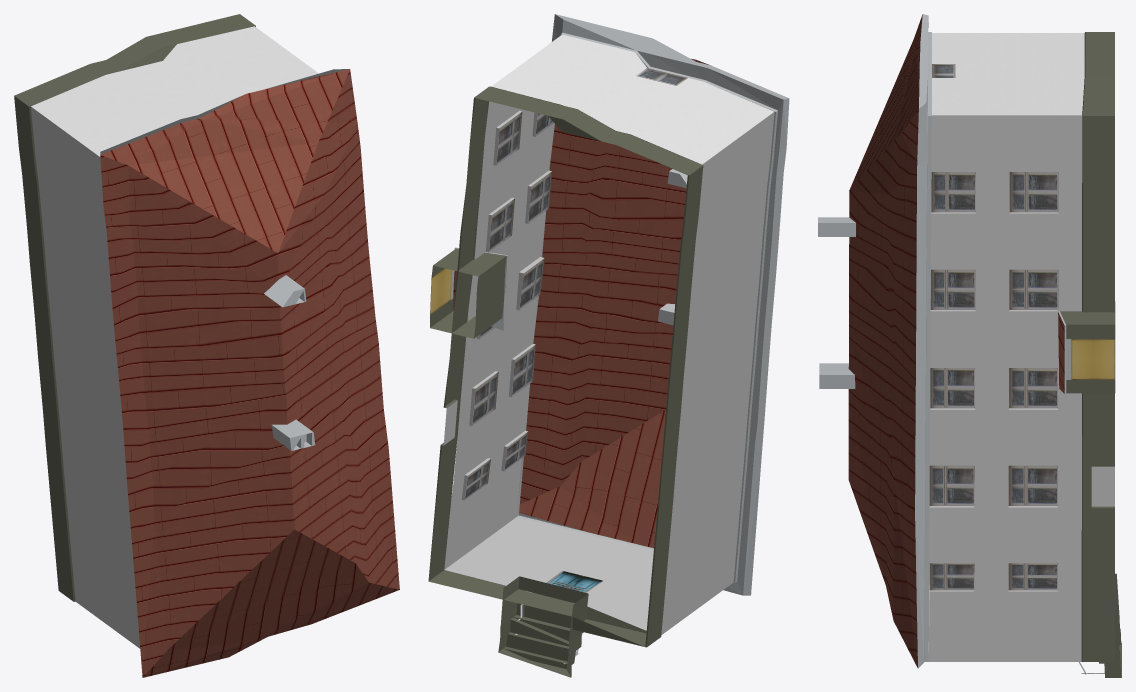
The model's file is Aia_15-origo.obj.
The picture shows the model from 3 angles, left to right: view 1: azimuth 30°, elevation 25°; view 2: azimuth 150°, elevation 25°; view 3: azimuth 270°, elevation 25°; orthographic projection. The views are drawn at different scales.
Parts seen in each view (by area): view 1: Aia_15; view 2: Aia_15; view 3: Aia_15.
Boxes of the visible parts, left/top/right/bottom form: Aia_15: left=14, top=14, right=399, bottom=677; Aia_15: left=428, top=14, right=789, bottom=677; Aia_15: left=818, top=14, right=1121, bottom=677.
Size of the model in its own units: 11.69 by 22.5 by 10.28.
